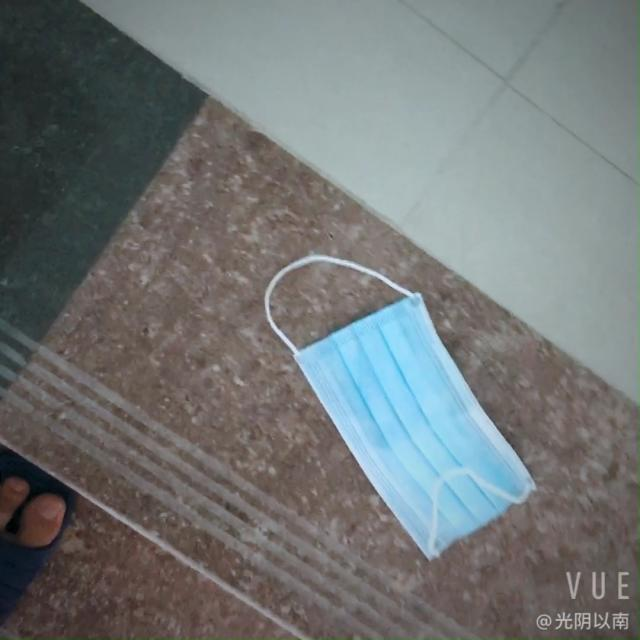non-organic waste: (287, 289, 530, 558)
